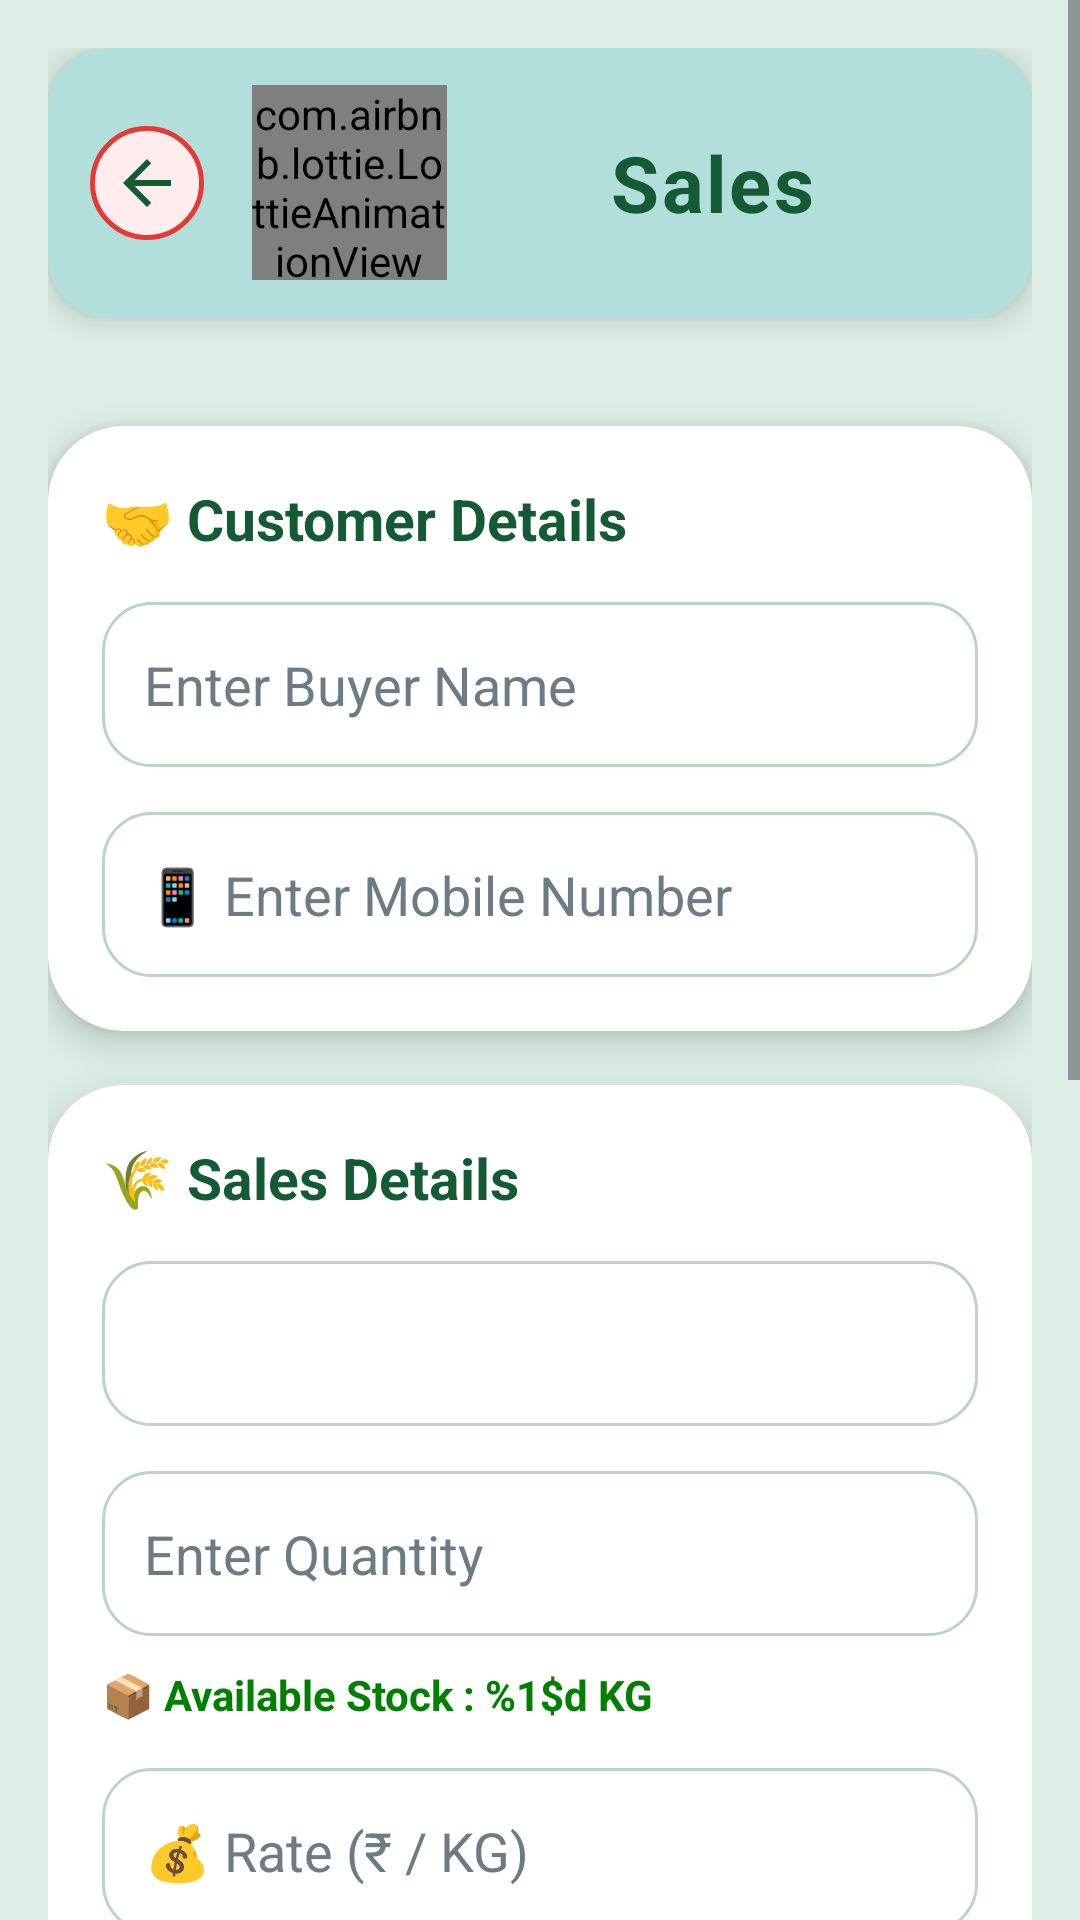

Named icons in this screenshot (1080x1920) and their centers, (x=x, y=y):
back: (x=147, y=183)
